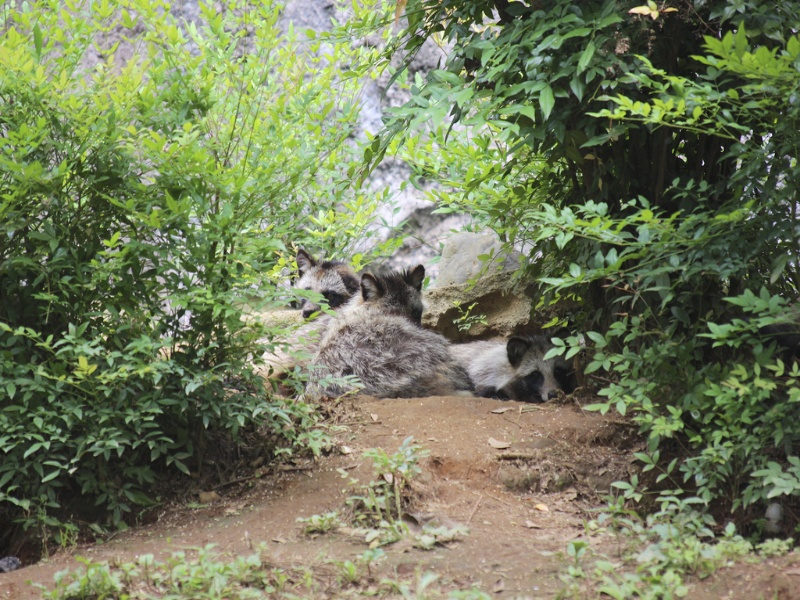raccoon: (307, 261, 463, 403), (448, 327, 583, 405), (283, 244, 351, 318)
